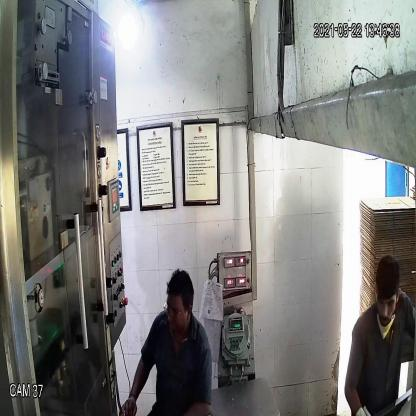no_goggles: (372, 294, 398, 312)
